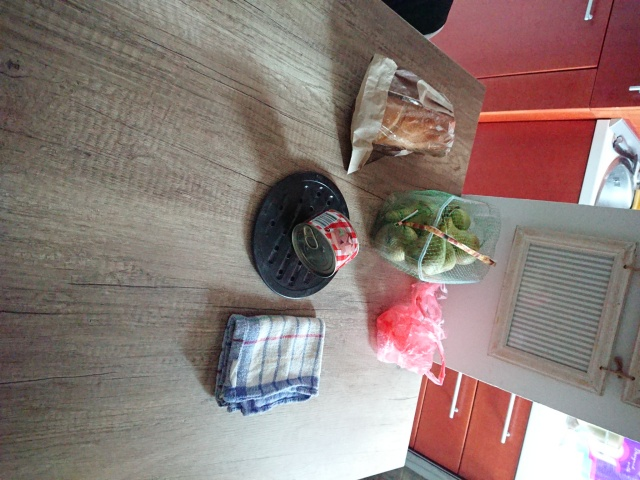Podravka Luncheon Meat 150g: (288, 206, 362, 281)
